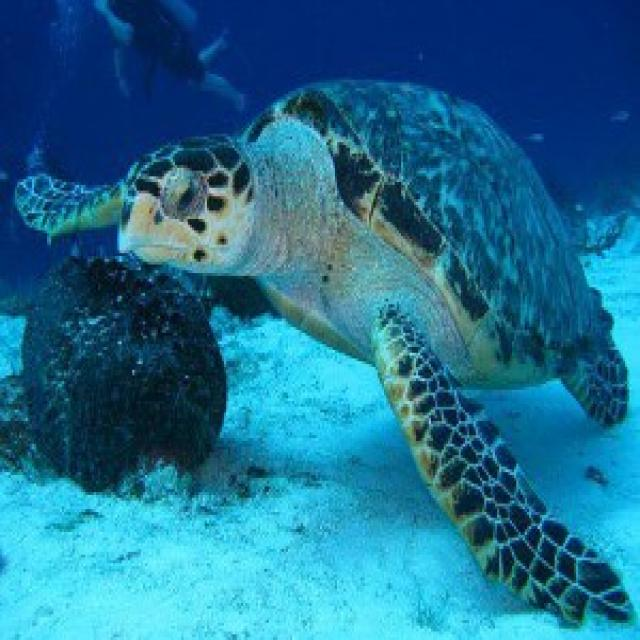Sea turtle: (10, 92, 640, 640)
